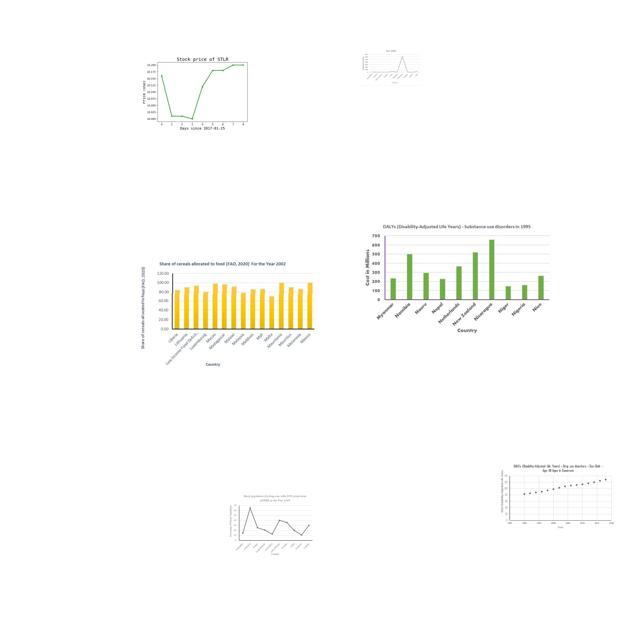Graph: (361, 222, 552, 337), (136, 260, 321, 368), (143, 48, 259, 135), (499, 462, 615, 531), (228, 493, 314, 557), (360, 48, 422, 86)
